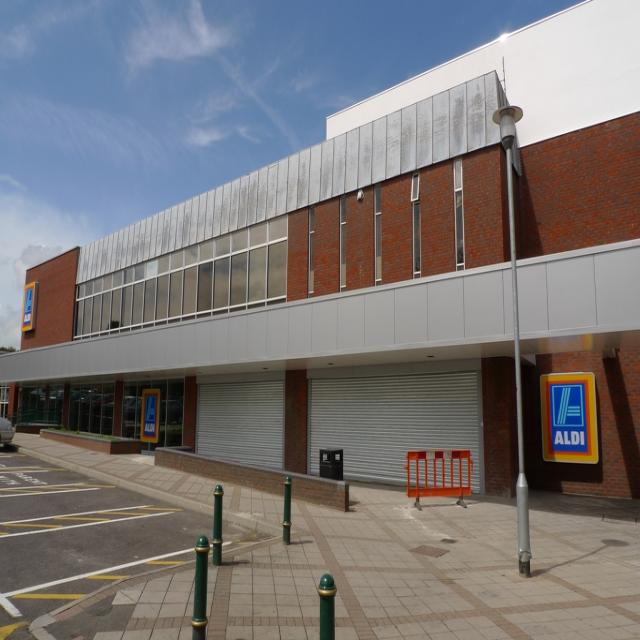aldi: (541, 374, 600, 466), (21, 281, 41, 334), (142, 391, 161, 442)
